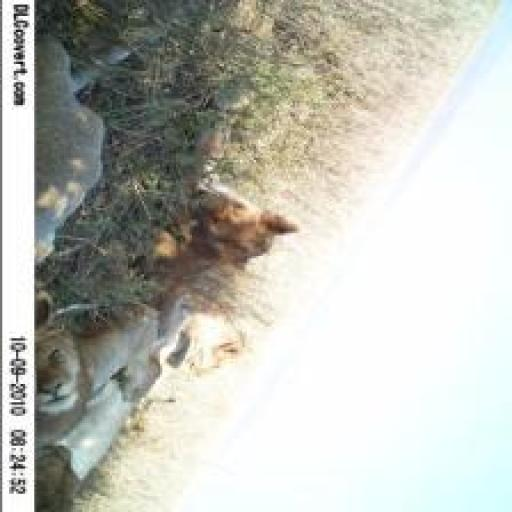lion: (142, 114, 306, 284), (142, 313, 280, 382)
